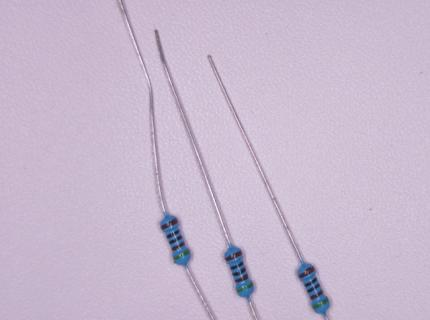Brown band: (236, 273, 249, 283), (310, 290, 323, 300), (173, 242, 184, 251)
Green band: (174, 249, 190, 261), (313, 297, 328, 309), (237, 282, 253, 292)
